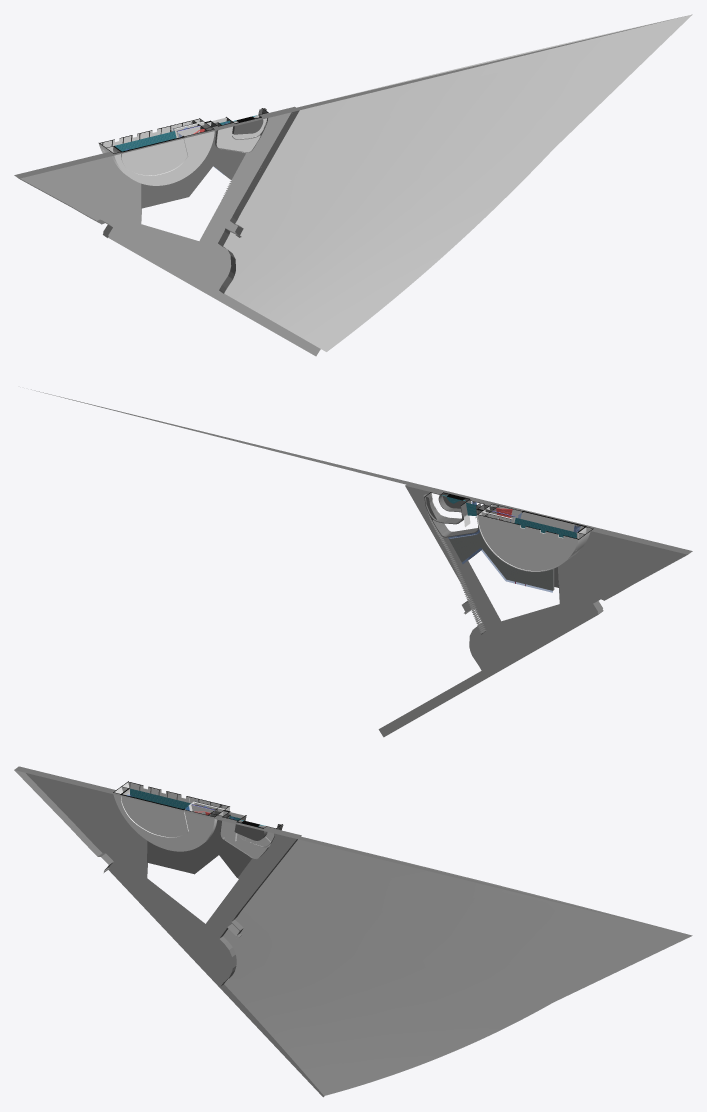
File: asset.glb
The picture shows the model from 3 angles, top to bottom: view 1: azimuth 30°, elevation 25°; view 2: azimuth 150°, elevation 25°; view 3: azimuth 330°, elevation 25°; orthographic projection.
Visible parts, largest first — view 1: object 3, object 2, object 38, object 14, root, object 20; view 2: object 2, object 64, root, object 15, object 21, object 38, Composant#182; view 3: object 3, object 2, object 38, object 14, root, object 20, object 59.
Part boxes in pixels (bbox=[...]): object 3: bbox=[223, 14, 692, 351]; object 2: bbox=[19, 110, 320, 356]; object 38: bbox=[115, 131, 214, 185]; object 14: bbox=[141, 130, 245, 208]; root: bbox=[14, 17, 678, 178]; object 20: bbox=[211, 112, 267, 152]; object 2: bbox=[378, 486, 687, 737]; object 64: bbox=[478, 515, 577, 570]; root: bbox=[31, 389, 692, 554]; object 15: bbox=[448, 510, 554, 592]; object 21: bbox=[424, 492, 484, 537]; object 38: bbox=[492, 504, 592, 533]; Composant#182: bbox=[423, 494, 486, 634]; object 3: bbox=[223, 839, 692, 1095]; object 2: bbox=[14, 770, 324, 1097]; object 38: bbox=[114, 794, 213, 850]; object 14: bbox=[147, 819, 252, 877]; root: bbox=[14, 766, 678, 932]; object 20: bbox=[220, 812, 275, 858]; object 59: bbox=[130, 788, 194, 810].
Bounding box in the file's own units: 550 × 199 × 24.04.
16 materials, 3 textured.
